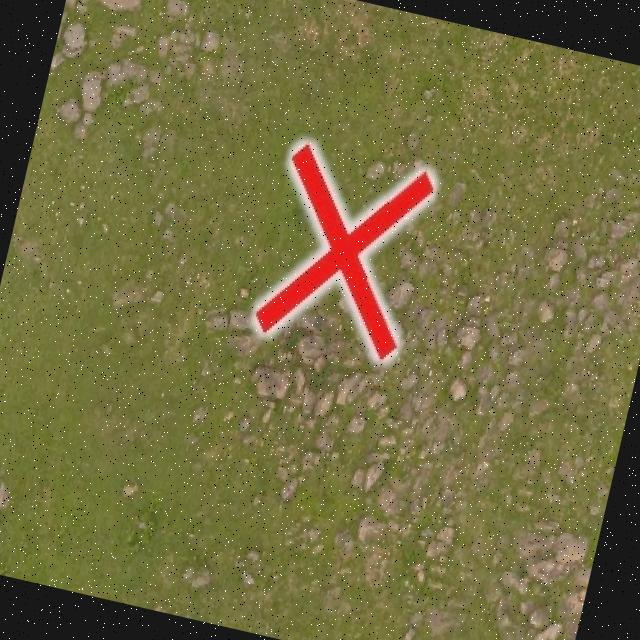x_marker: (252, 140, 435, 360)
